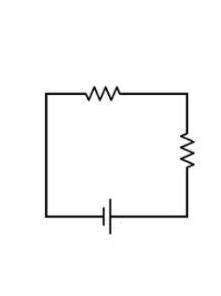resistor: (77, 79, 134, 112), (172, 118, 203, 176)
